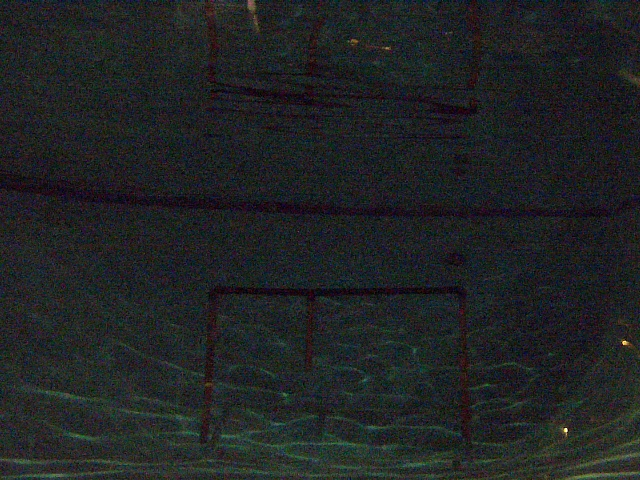Gate: (455, 297, 477, 456), (197, 292, 213, 443), (301, 294, 317, 374)
